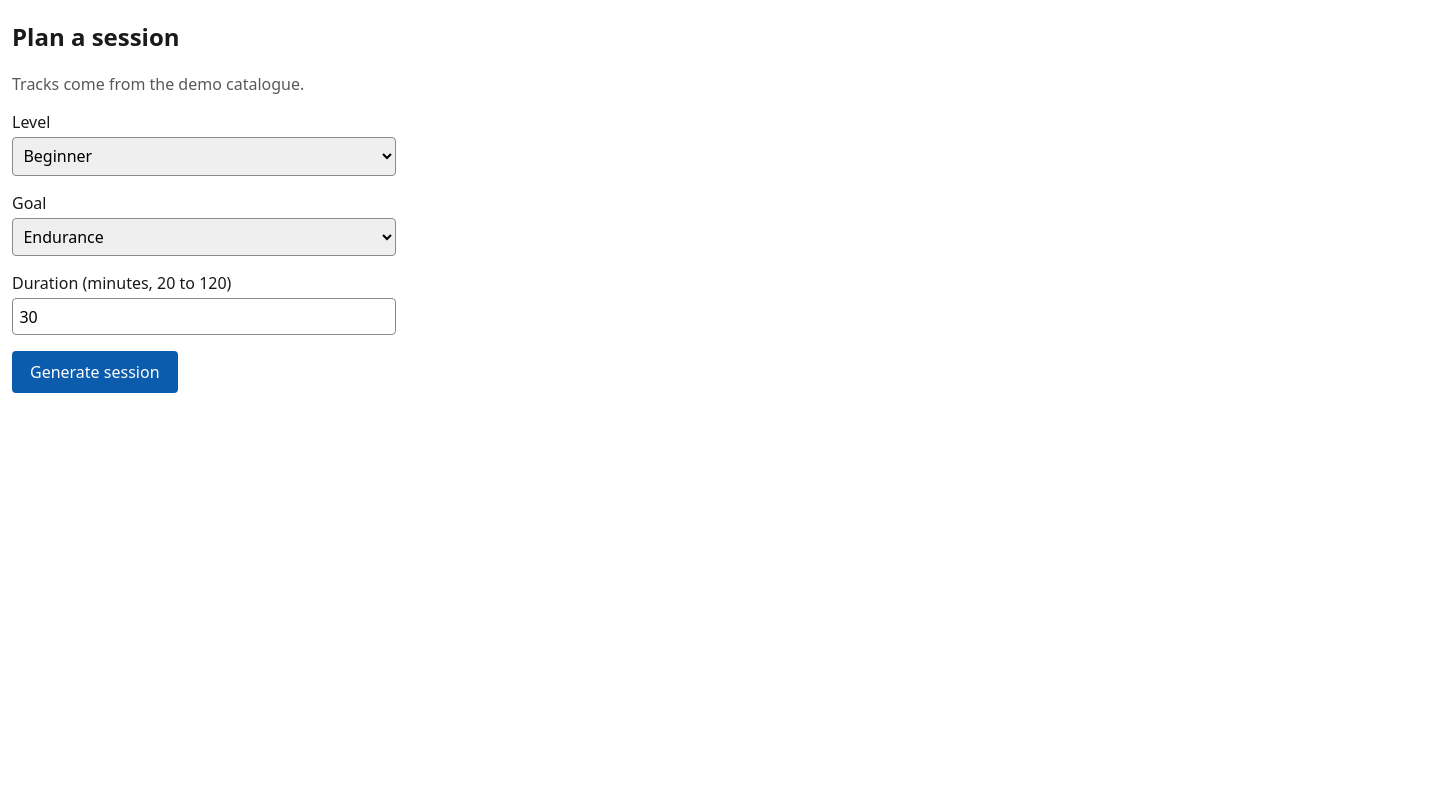
Test case: GenerateForm › shows the 422 title, detail and every reason returned by the API
This screenshot has width=1452, height=810.
Click the button "Generate session": (95, 372) [12,351,178,393]
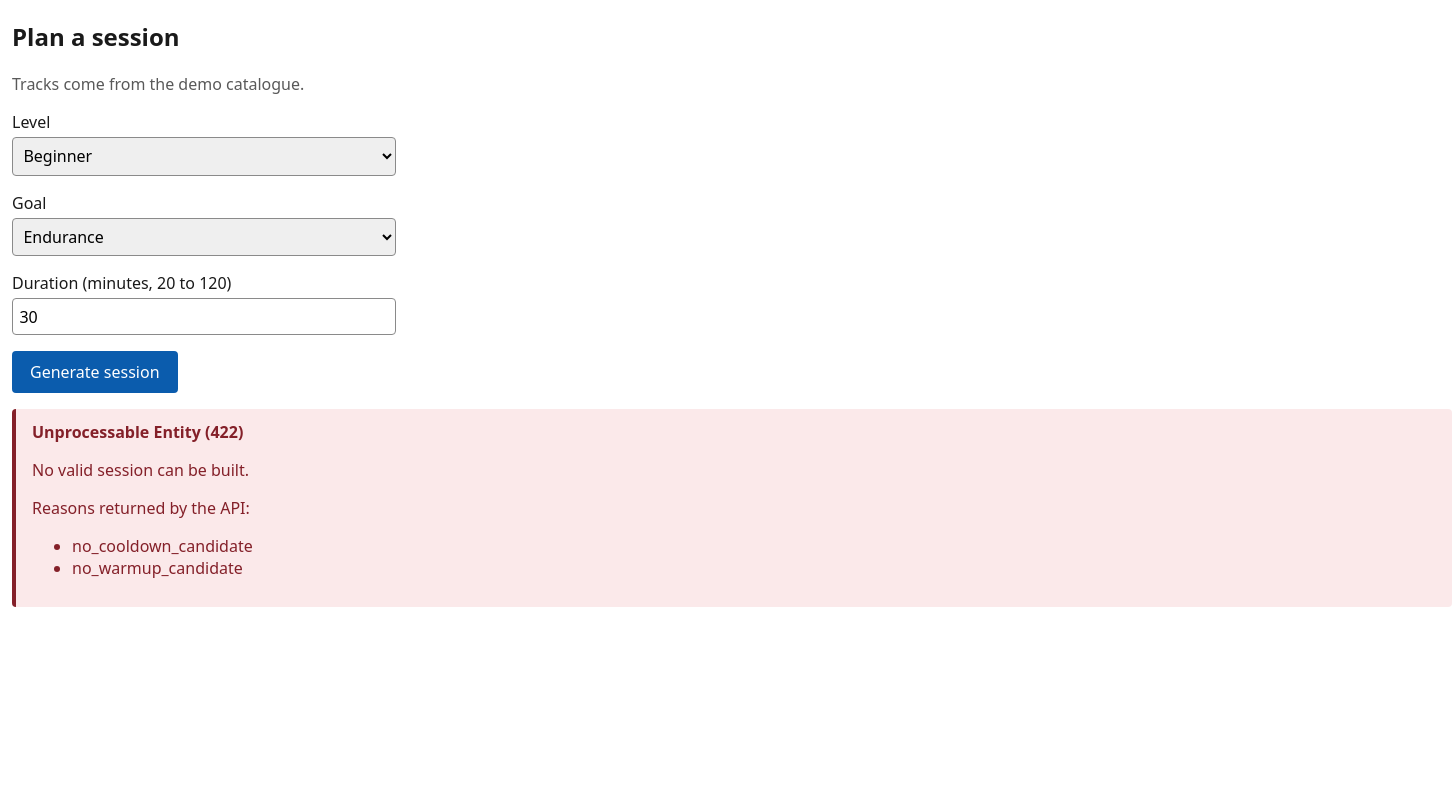
Check: the message shows "Unprocessable Entity (422)", box [12,409,1451,607]
Check: the message shows "No valid session can be built.", box [32,459,249,481]
Check: the message shows "no_cooldown_candidate", box [72,535,253,557]
